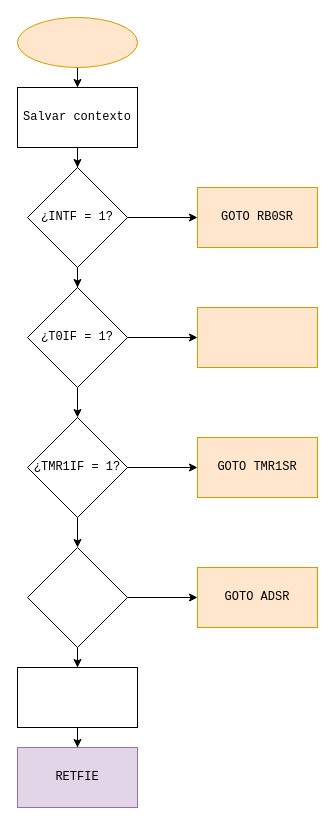
This 335x825 diagram has some shape labels left out. Each missing label, with the centre of its shape:
"GOTO TMR0SR" goes at pixel 257 337.
"IRS" goes at pixel 77 42.
"Recuperar contexto" goes at pixel 77 697.
"¿ADIF = 1?" goes at pixel 77 597.
